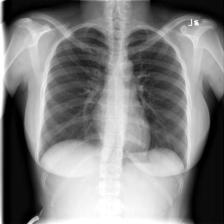normal: (37, 23, 192, 171)
